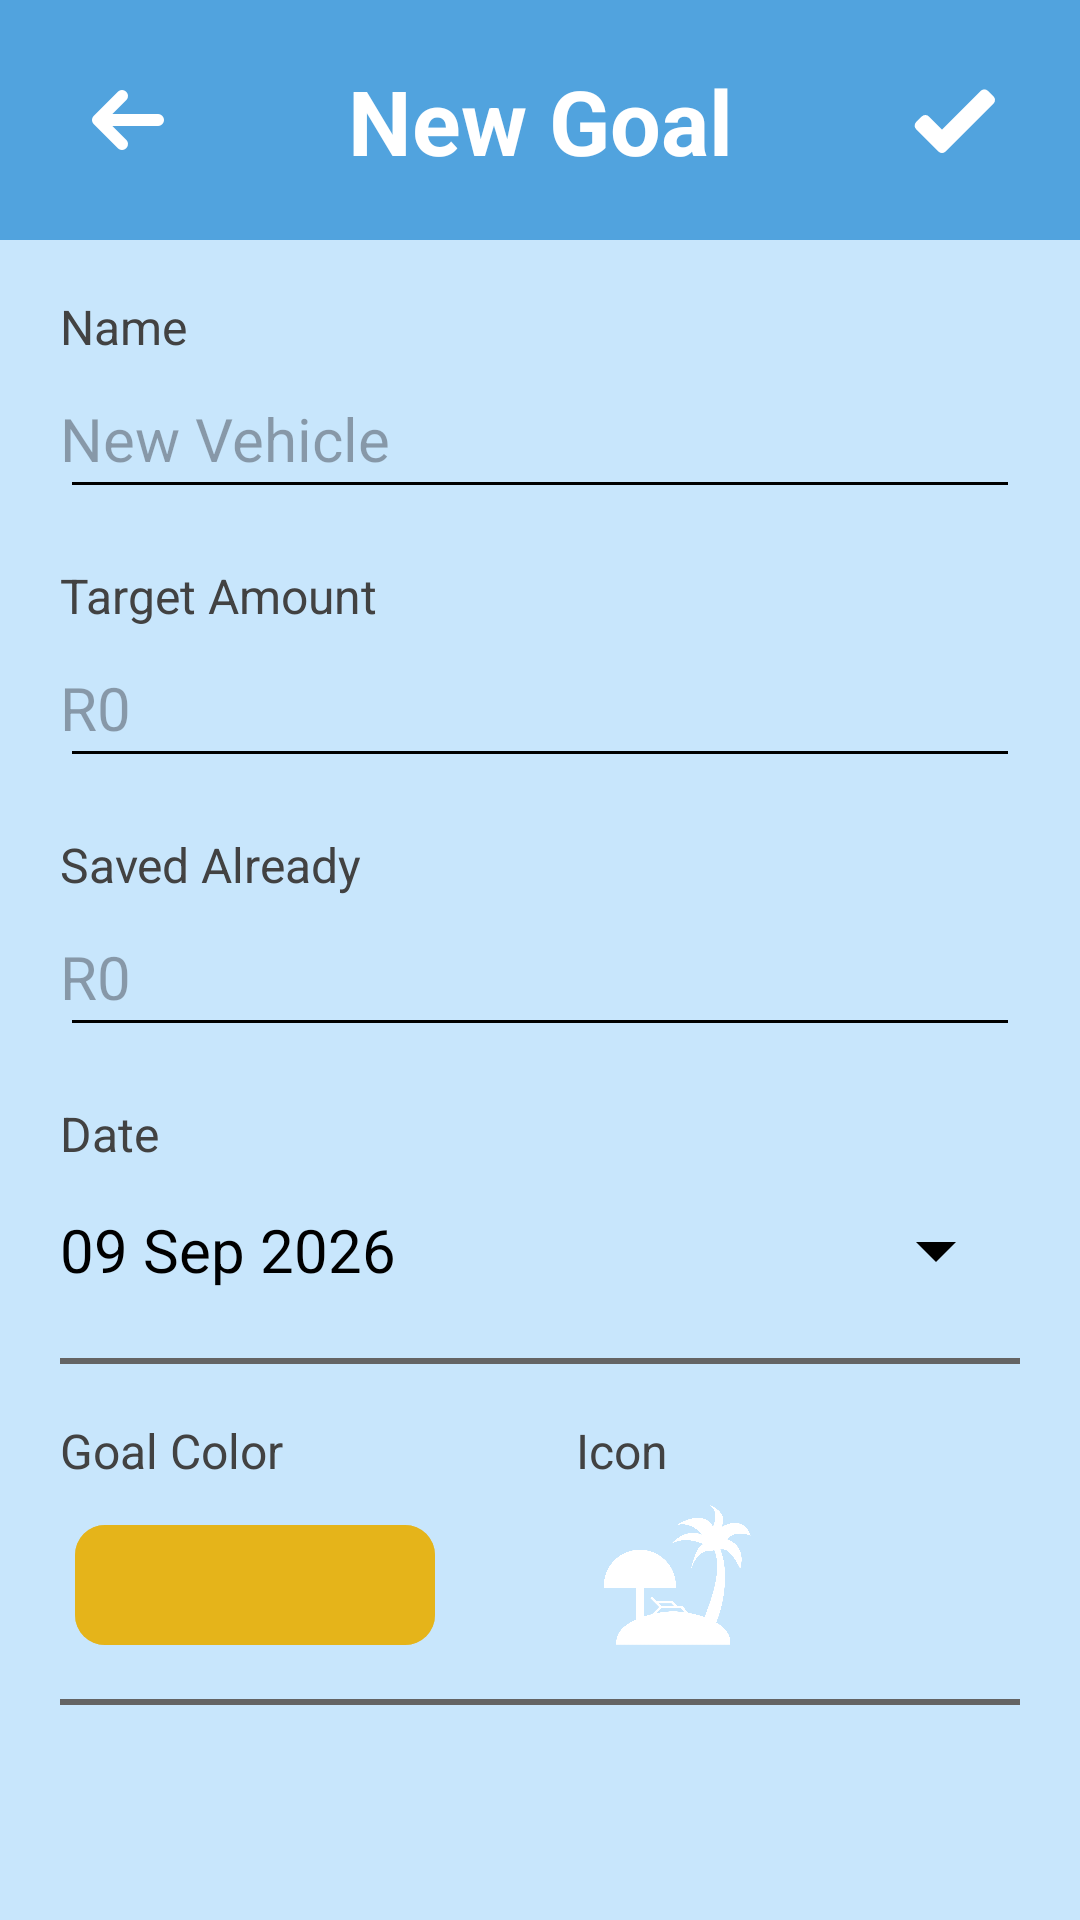

Locate icon controls on the screen. Image size 1080x1920, boxes as box(x1, y1, x2, y2).
arrow back: box(92, 90, 164, 150)
check: box(914, 89, 995, 153)
